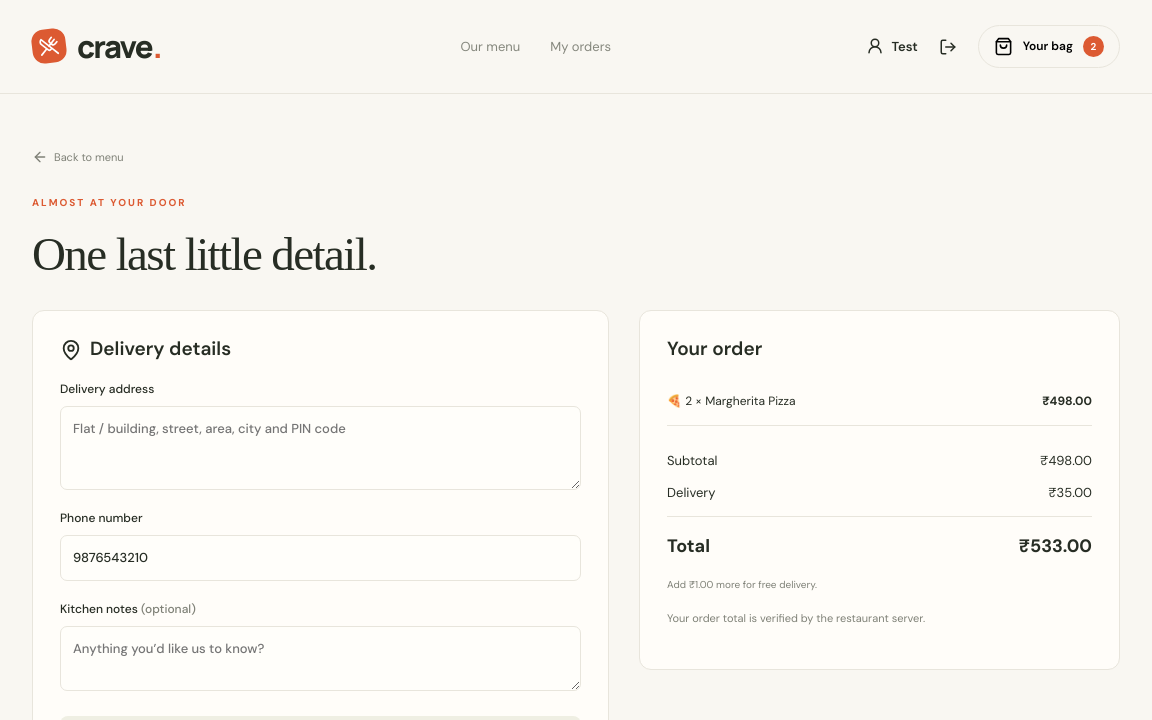
Scenario: Customer ordering UI › places an order with IDs and quantities, then clears the bag
This screenshot has width=1152, height=720.
expect the heading "One last little detail." is shown: met, box [32,228,376,280]
Type "Flat 5, MG Road, Mumbai 400001" into the text box labelled "Delivery address" at (321, 448), box [60,406,581,490]
(page scrolled)
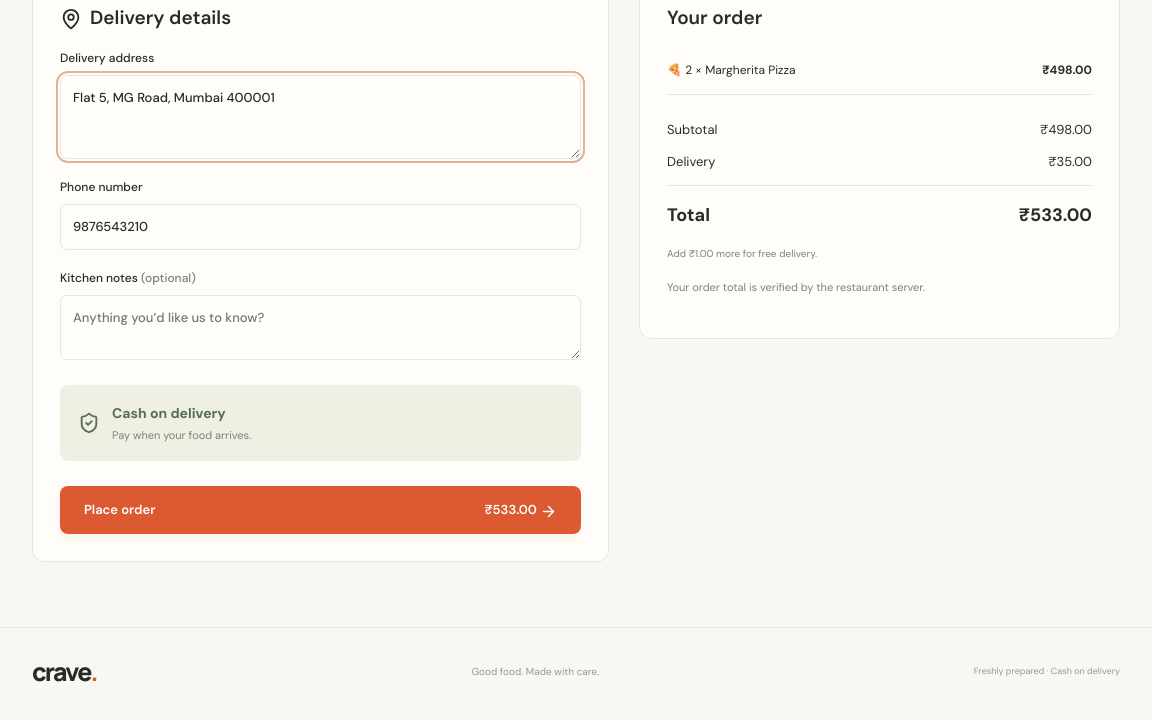
Click the button "Place order ₹533.00" at (120, 510), box [60,486,581,534]
(page scrolled)
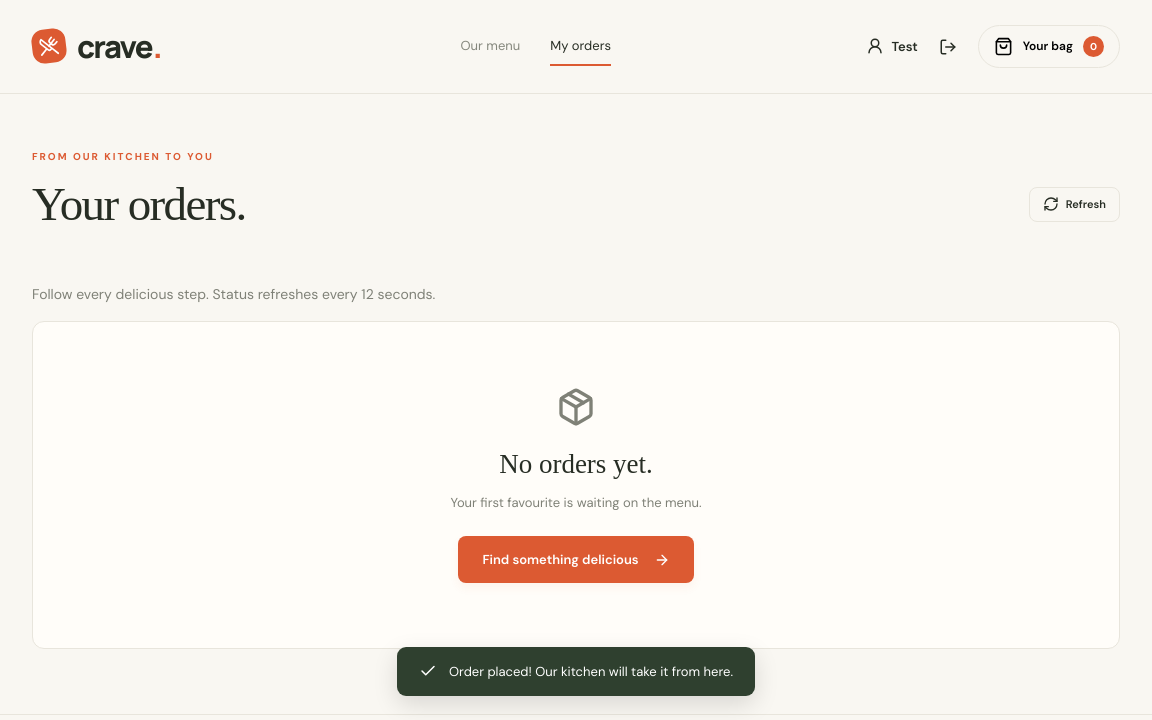
expect the heading "Your orders." is shown: met, box [32,176,246,232]
